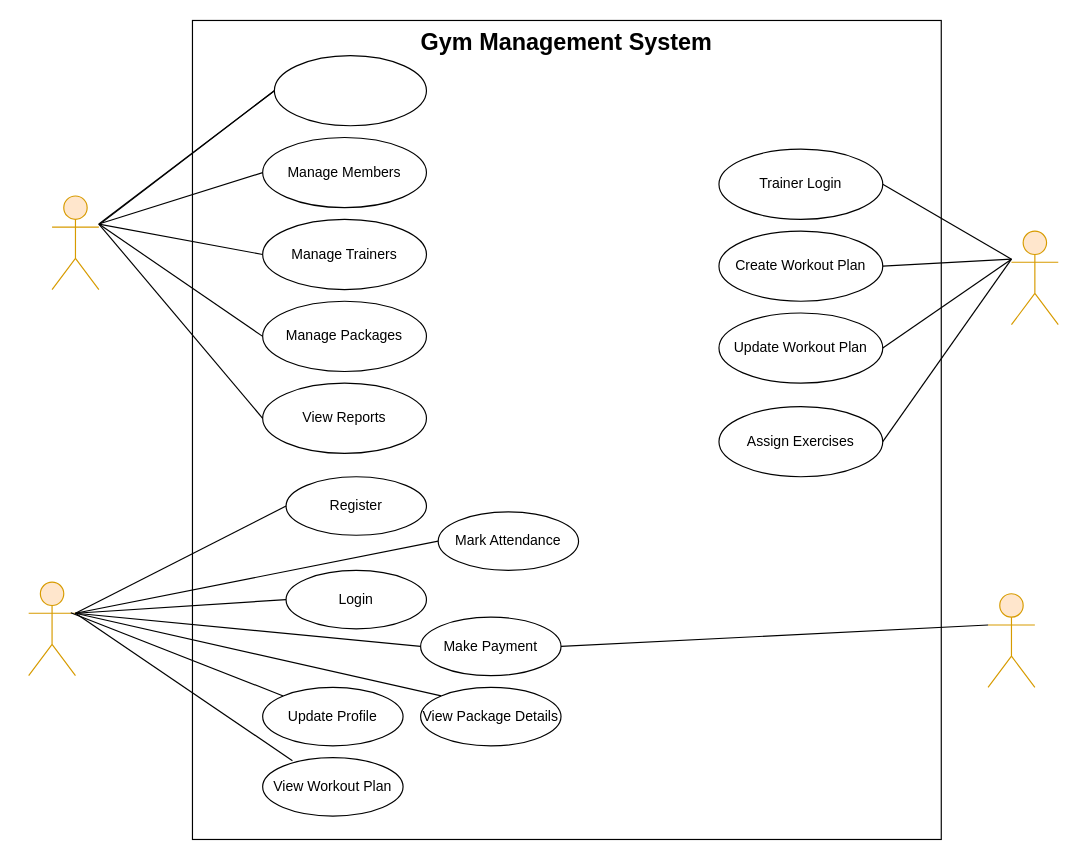
This 1092x860 diagram has some shape labels left out. Each missing label, with the box of its shape:
Admin: (51, 195, 99, 290)
Admin Login: (273, 54, 426, 126)
Member: (27, 581, 75, 676)
Payment Gateway: (987, 593, 1035, 687)
Trainer: (1010, 230, 1058, 325)
